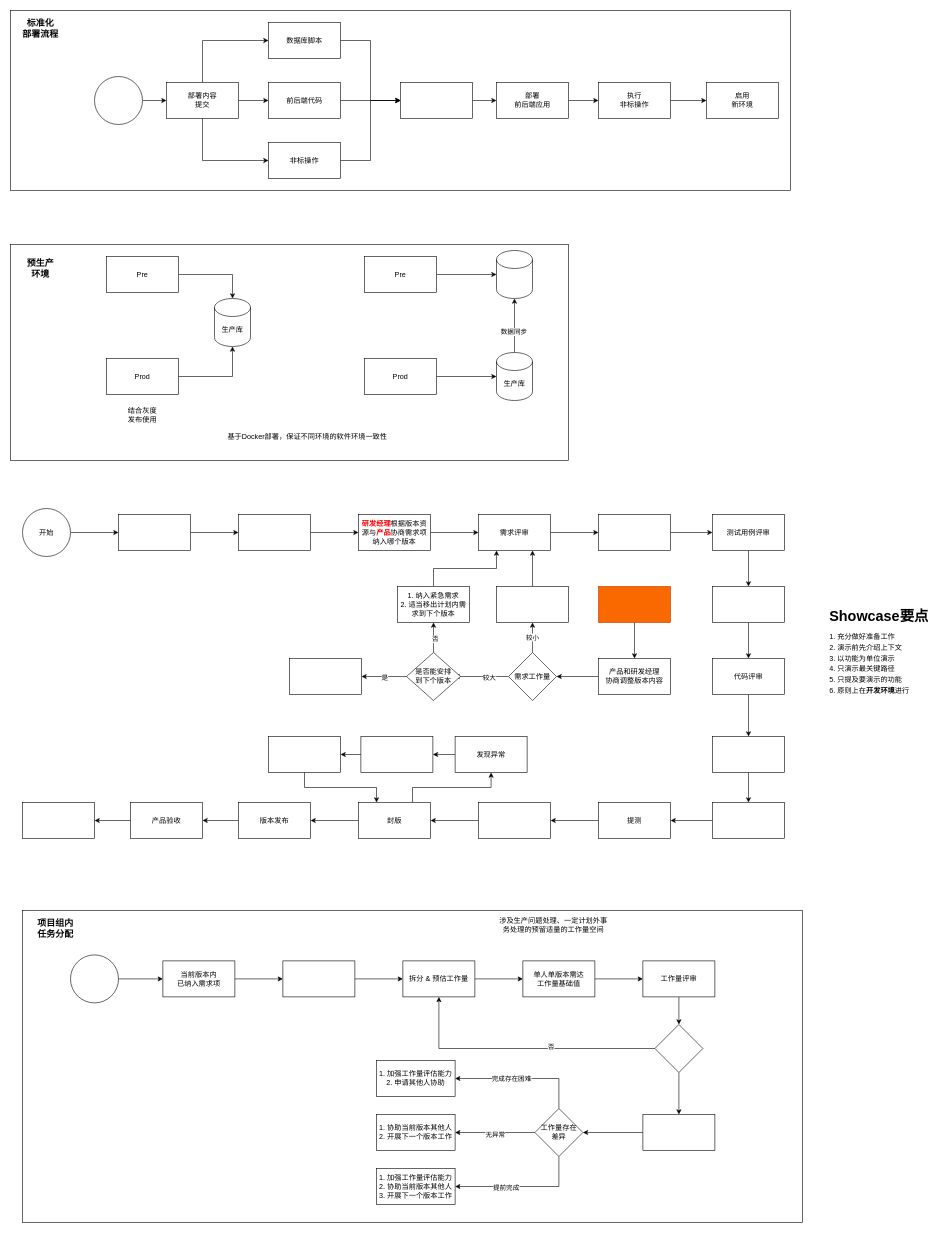
This 951x1233 diagram has some shape labels left out. Here are the shapes that lost their labels. From the top down, the box of each, then its label:
(400, 82, 472, 118): 执行 数据库脚本
(496, 250, 532, 298): 预生产库
(118, 514, 190, 550): 查阅月度 版本日期
(238, 514, 310, 550): 产品 提供根据规划以及优先级的需求项
(598, 514, 670, 550): 技术方案评审
(496, 586, 568, 622): 直接纳入 当前版本
(598, 586, 670, 622): 新增紧急需求 亟需安排在当前版本
(712, 586, 784, 622): 开始研发
(289, 658, 362, 694): 安排到下个版本
(268, 736, 340, 772): 异常处理
(360, 736, 433, 772): 版本解封
(712, 736, 784, 772): 面向产品&测试 本地Showcase
(22, 802, 94, 838): 版本回顾
(478, 802, 550, 838): 测试
(712, 802, 784, 838): 冒烟测试
(282, 960, 355, 997): 分配/认领需求项
(654, 1024, 703, 1072): 工作量预估 是否合理
(642, 1114, 715, 1150): 根据明确的版本时间、领用的任务项展开研发工作
